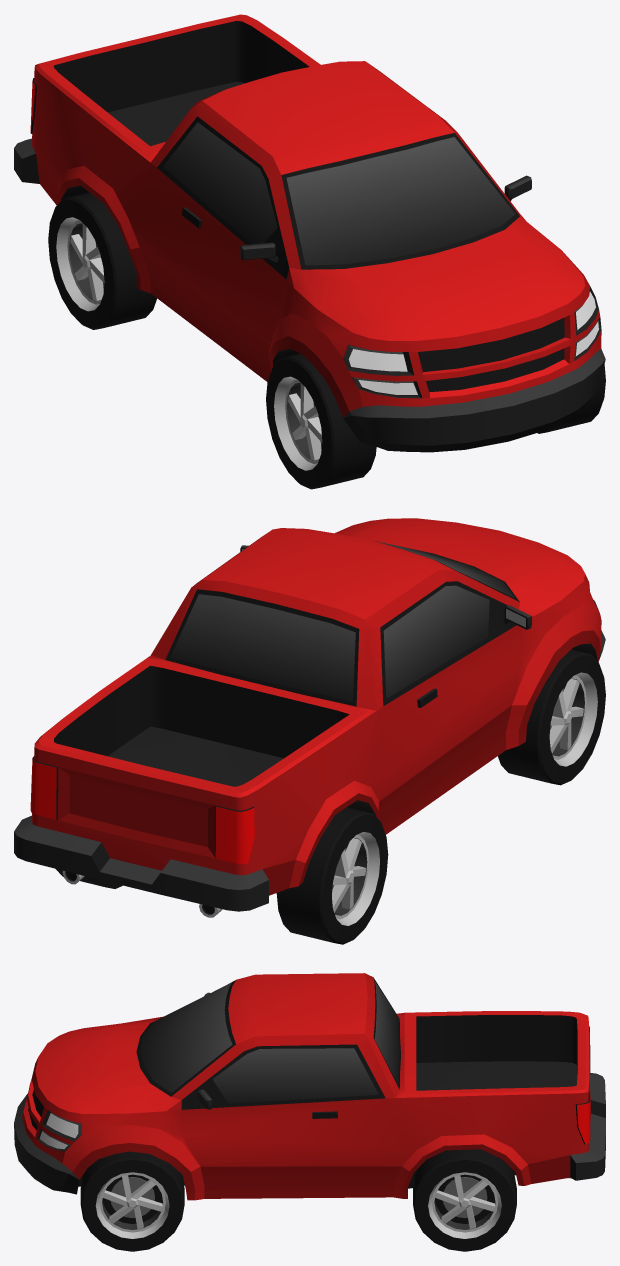
File: Truck 4x4.fbx
3 renders of one model, top to bottom at view 1: azimuth 30°, elevation 25°; view 2: azimuth 150°, elevation 25°; view 3: azimuth 270°, elevation 25°, orthographic. The views are drawn at different scales.
Visible parts, largest first — view 1: Truck_4x4_Body, B_R, F_R, F_L; view 2: Truck_4x4_Body, B_R, F_R; view 3: Truck_4x4_Body, B_L, F_L.
Boxes of the visible parts, x1,y1,x2,y2 form: Truck_4x4_Body: (14,14,605,452); B_R: (48,192,156,329); F_R: (266,353,376,489); F_L: (537,364,605,433); Truck_4x4_Body: (14,518,605,917); B_R: (276,807,388,944); F_R: (498,649,605,785); Truck_4x4_Body: (14,973,605,1200); B_L: (413,1149,516,1251); F_L: (80,1151,184,1251).
Bounding box in the file's own units: 209 × 183 × 484.
